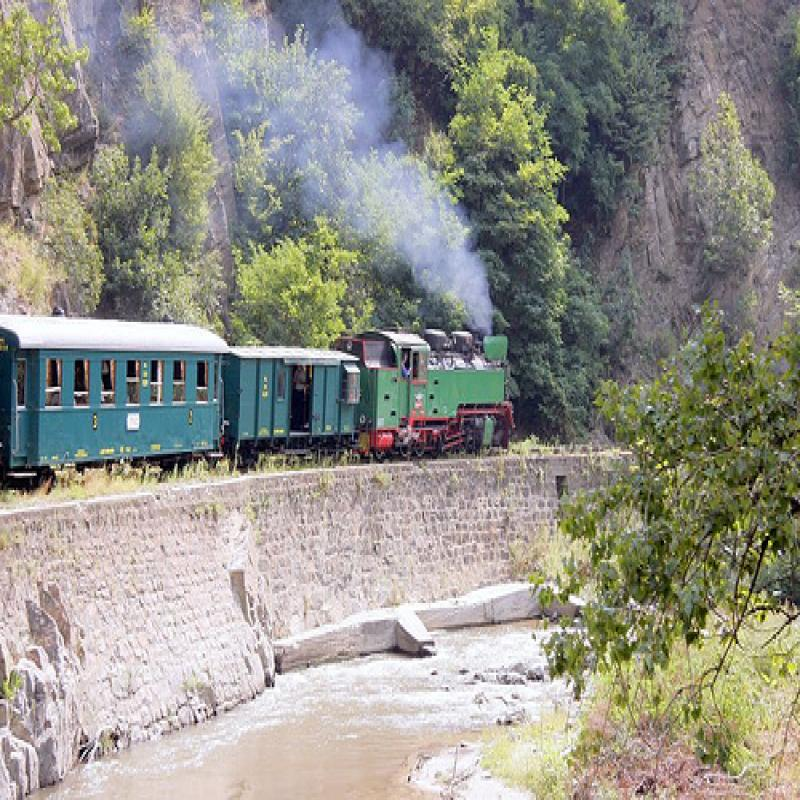train: (1, 313, 518, 484)
